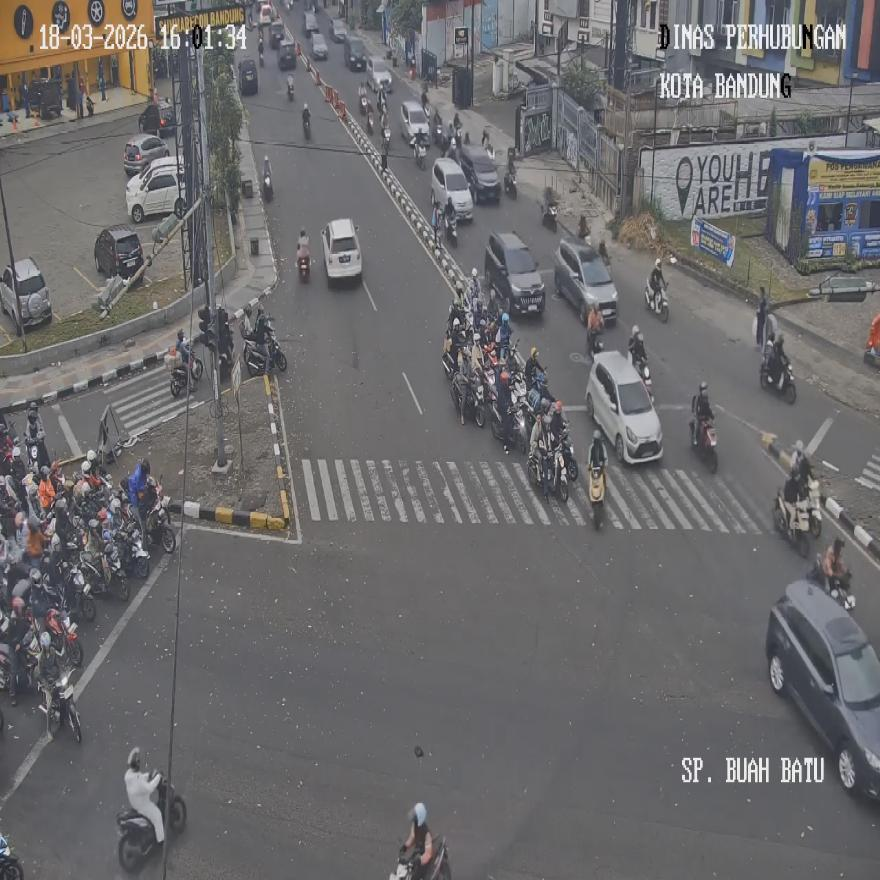Mobil: (765, 580, 880, 800), (584, 348, 663, 464), (554, 236, 618, 324), (485, 231, 545, 318), (0, 255, 52, 332), (320, 216, 362, 280)
Motor: (116, 770, 186, 871), (39, 670, 82, 743), (0, 618, 38, 700), (80, 542, 129, 602), (389, 835, 450, 880), (808, 558, 855, 612), (773, 488, 809, 556), (44, 608, 83, 668), (242, 326, 286, 376), (760, 347, 796, 402), (451, 369, 484, 428), (115, 527, 150, 580), (490, 400, 525, 452), (144, 498, 175, 554), (552, 421, 578, 486), (529, 445, 558, 502), (690, 417, 718, 473), (171, 348, 202, 398), (644, 276, 668, 322), (804, 478, 822, 539), (588, 462, 604, 529), (0, 835, 23, 880), (635, 354, 653, 404), (586, 320, 603, 358), (443, 207, 458, 246), (540, 197, 557, 231), (262, 158, 274, 202), (412, 132, 427, 167), (297, 250, 309, 282), (505, 167, 517, 198), (302, 103, 311, 138), (364, 101, 373, 134), (286, 74, 294, 101), (84, 94, 93, 117)
